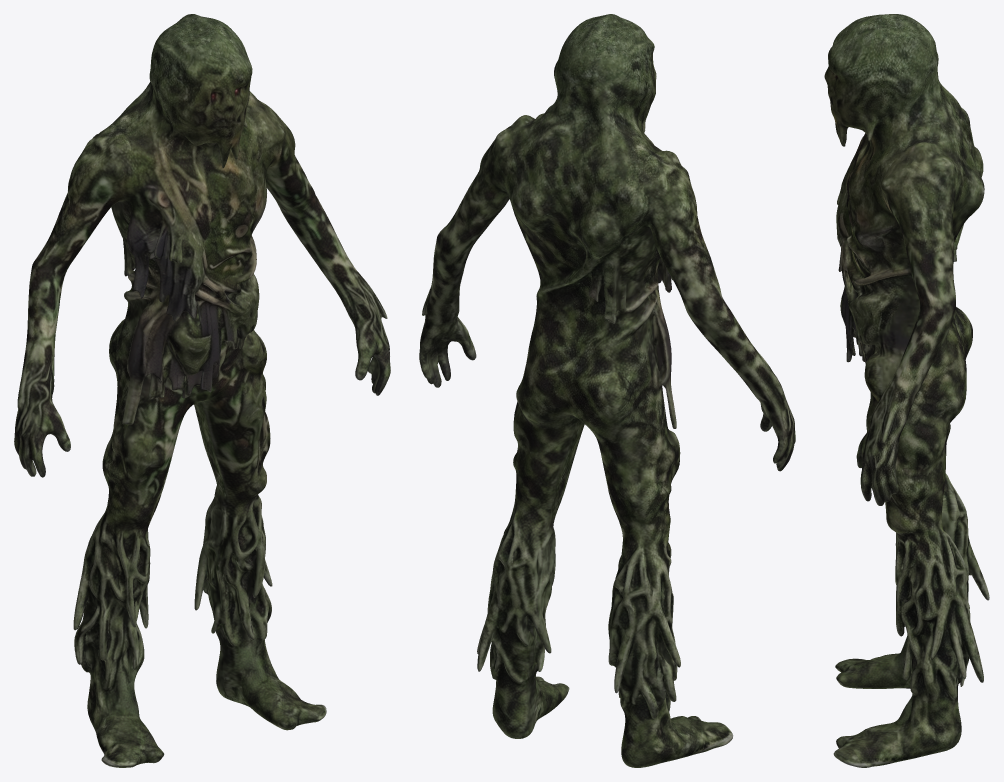
File: Model_Mada__1003101922_texture.glb
3 renders of one model, left to right at view 1: azimuth 30°, elevation 25°; view 2: azimuth 150°, elevation 25°; view 3: azimuth 270°, elevation 25°, orthographic.
Size of the model in its own units: 1.03 by 1.9 by 0.402.
1 material, 1 textured.
